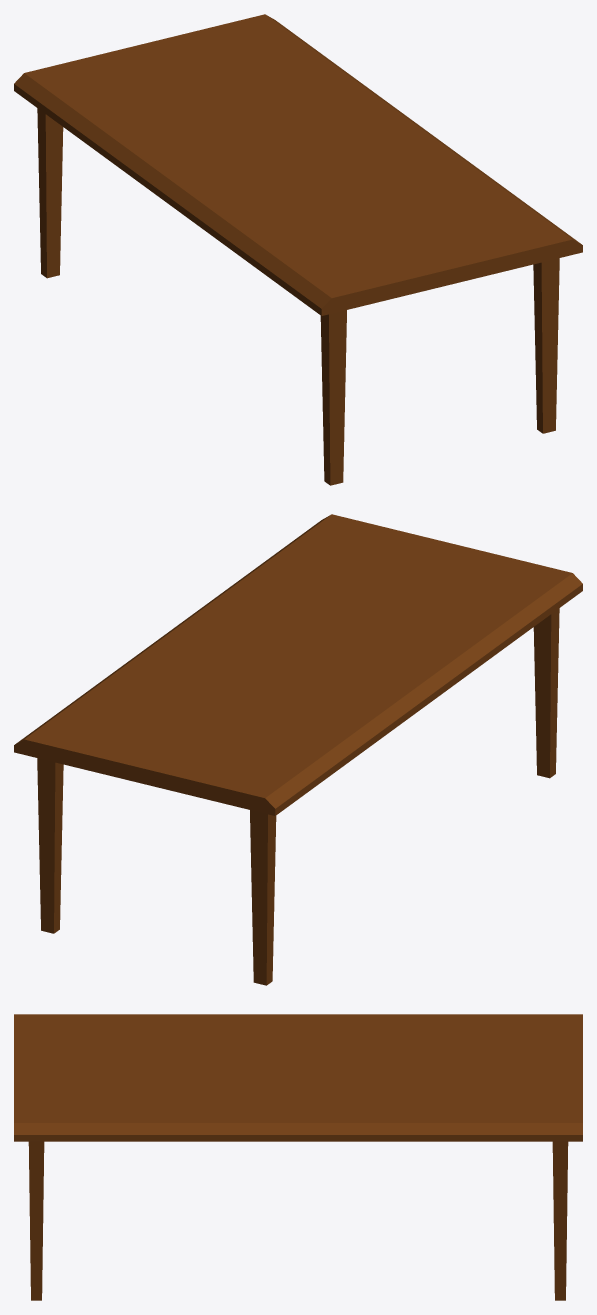
File: Table.fbx
3 views of the same model, one above another, from view 1: azimuth 30°, elevation 25°; view 2: azimuth 150°, elevation 25°; view 3: azimuth 270°, elevation 25° (orthographic). The views are drawn at different scales.
Visible parts, largest first — view 1: Cube; view 2: Cube; view 3: Cube.
Boxes of the visible parts, <box> form: Cube: <box>14,14,582,485</box>; Cube: <box>14,514,582,985</box>; Cube: <box>14,1014,582,1300</box>.
Bounding box in the file's own units: 76 × 54.5 × 155.
